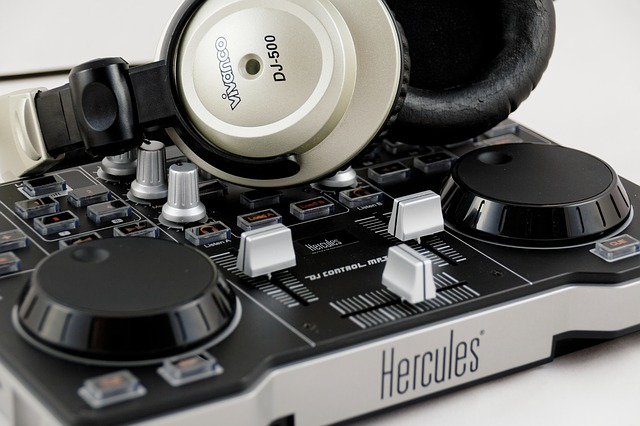headphones: (1, 1, 556, 187)
